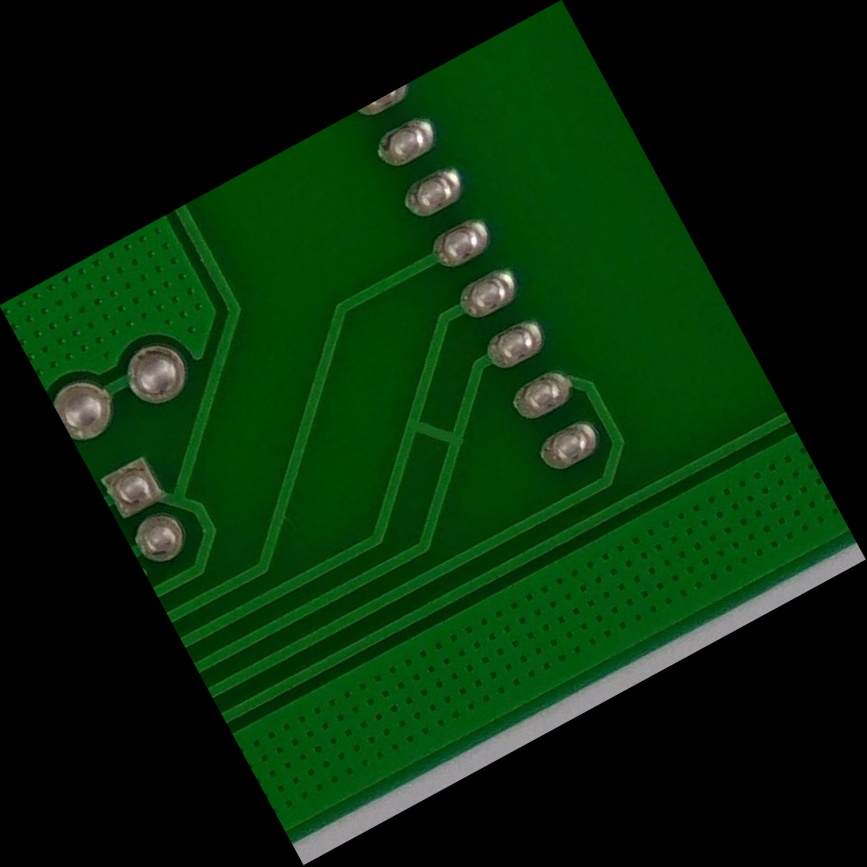short: (375, 375, 494, 492)
